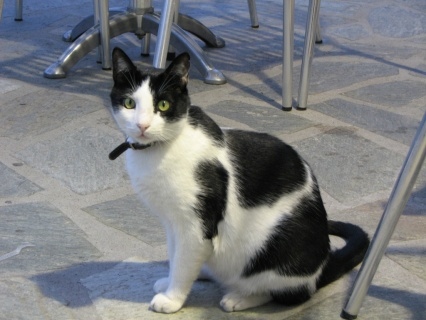Cat: (110, 46, 370, 313)
